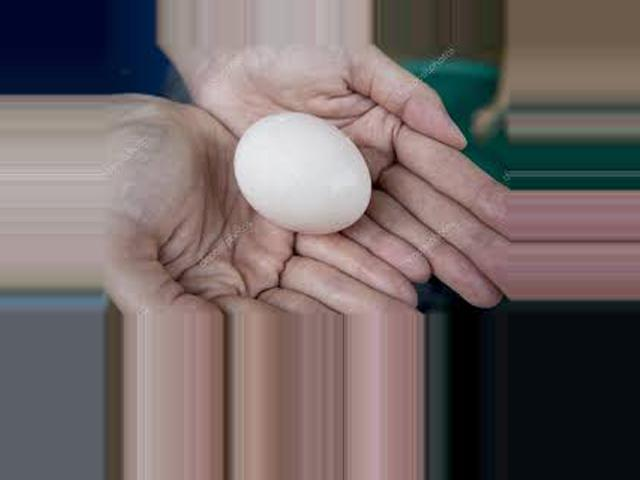egg: (235, 115, 371, 231)
